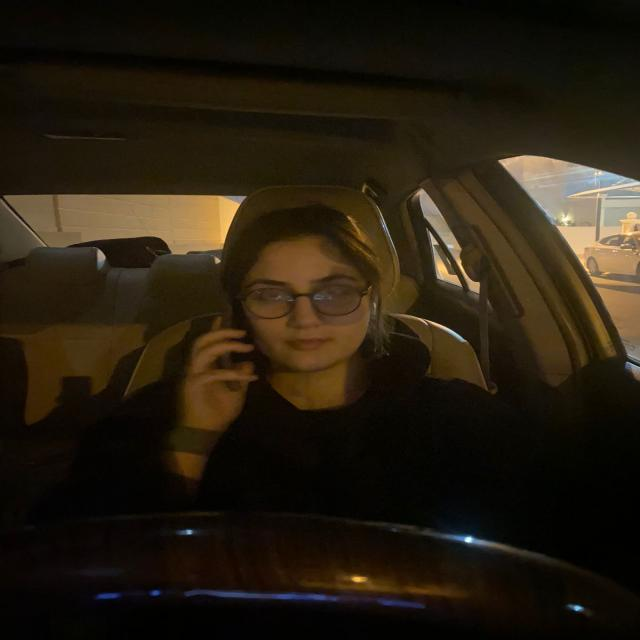mobile: (196, 290, 247, 394)
person: (232, 202, 386, 374)
